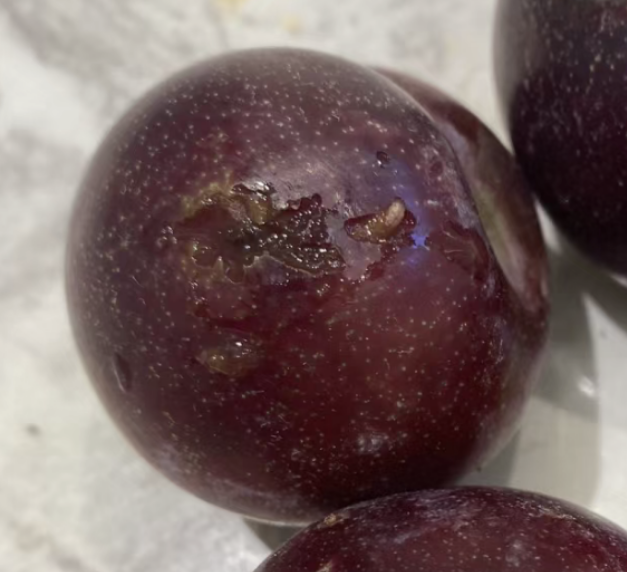plum_C: (64, 49, 551, 528)
